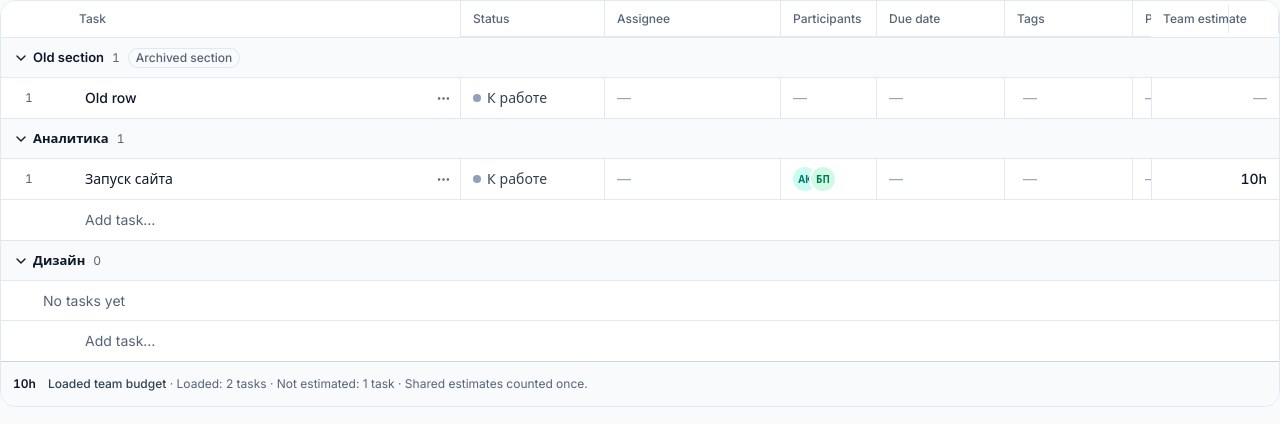
TaskTable Asana-style add rows › closes each expanded writable section with one persistent Add task row and keeps the header add only for collapsed groups
The image size is (1280, 424).
Expected: the button "Запуск сайта" is shown, [81,165,177,193]
Click the button with aria-label "Add task to “Аналитика”" at (120, 220), box [85,204,697,236]
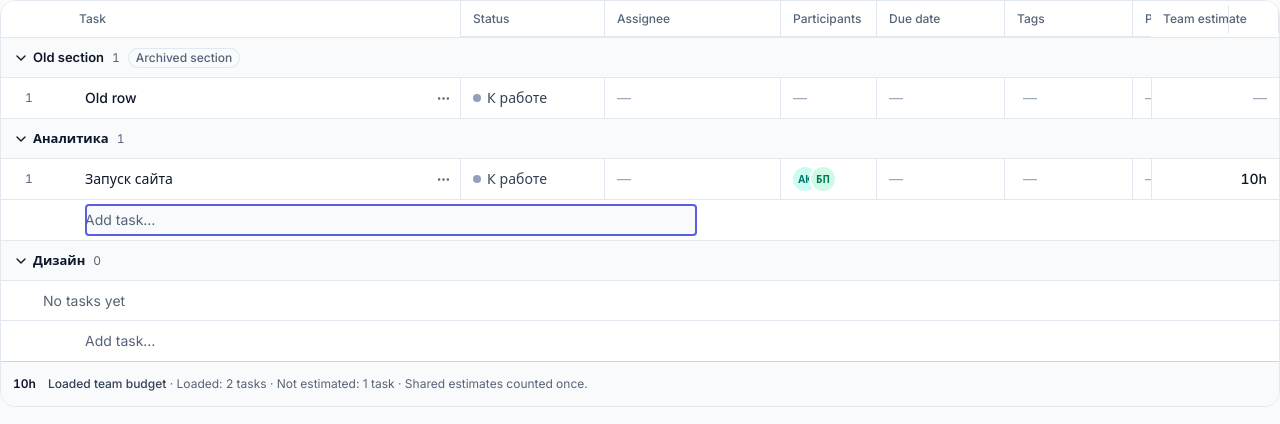
Click the button with aria-label "Collapse section “Аналитика”" at (61, 138), box [13,122,109,154]
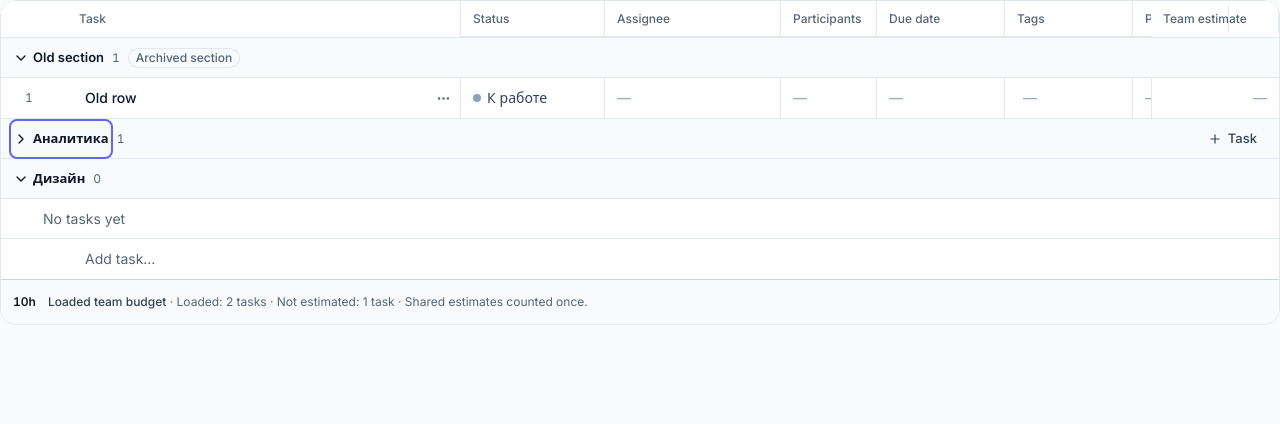
Expected: the column heading named "Add task to “Аналитика”" is shown, [1,118,1279,158]
Result: the number of buttons named "Add task to “Аналитика”" is 1 at [1198,122,1267,154]
